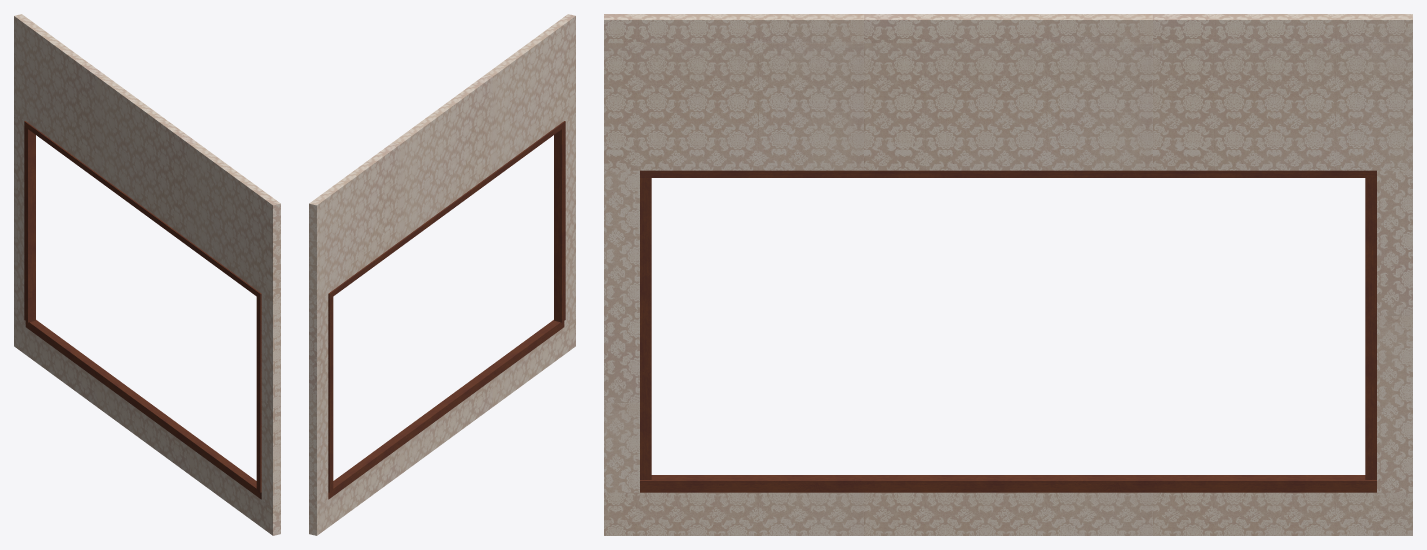
Rendered from SM_WallPaper01M.fbx.
The picture shows the model from 3 angles, left to right: view 1: azimuth 30°, elevation 25°; view 2: azimuth 150°, elevation 25°; view 3: azimuth 270°, elevation 25°; orthographic projection. The views are drawn at different scales.
Parts seen in each view (by area): view 1: SM_WallPaper01M; view 2: SM_WallPaper01M; view 3: SM_WallPaper01M.
Part boxes in pixels (box(x1,y1,x2,y2)): SM_WallPaper01M: box(14, 14, 280, 535); SM_WallPaper01M: box(309, 14, 575, 535); SM_WallPaper01M: box(604, 14, 1412, 535).
Size of the model in its own units: 7.91 by 393 by 277.
2 materials, 2 textured.
